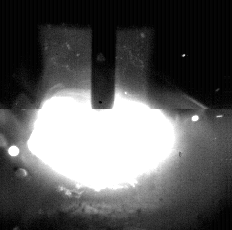arame: (92, 0, 116, 111)
poca: (26, 0, 176, 230)
